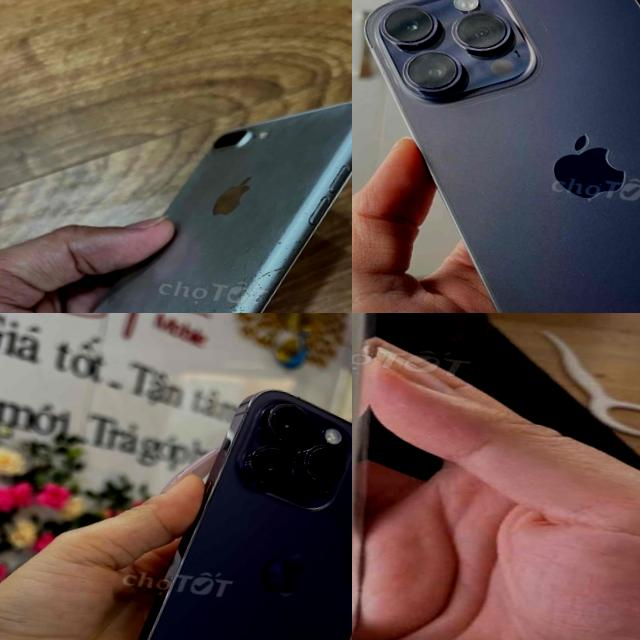scratch: (48, 211, 309, 313), (597, 0, 630, 16)
